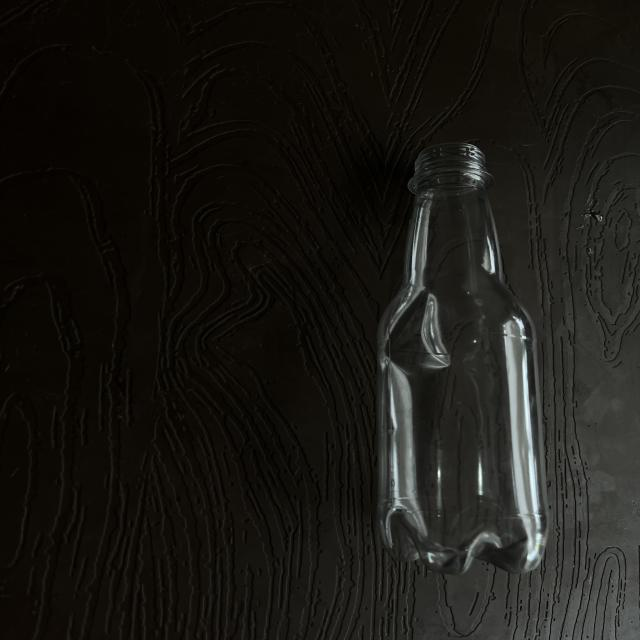PET_ClearBottle: (368, 141, 567, 632)
